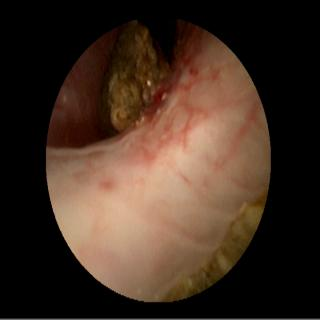stone: (167, 189, 266, 300), (99, 22, 169, 131)
tissue: (55, 28, 264, 289)
